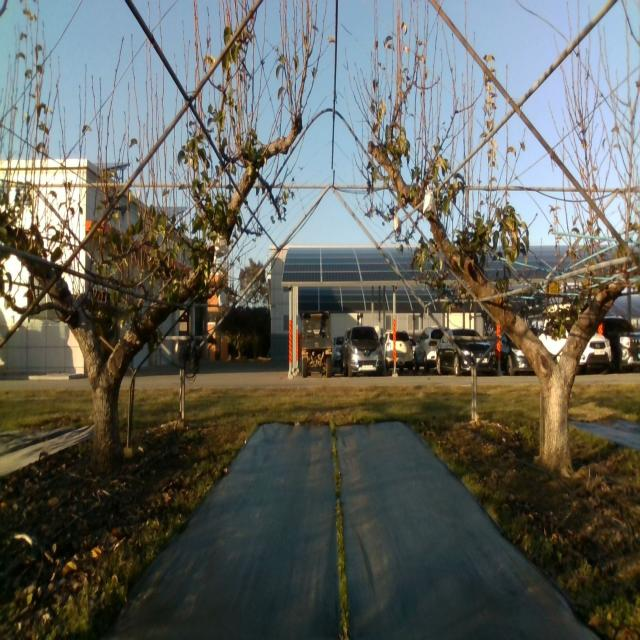pearbags: (213, 235, 230, 262), (423, 184, 437, 215)
